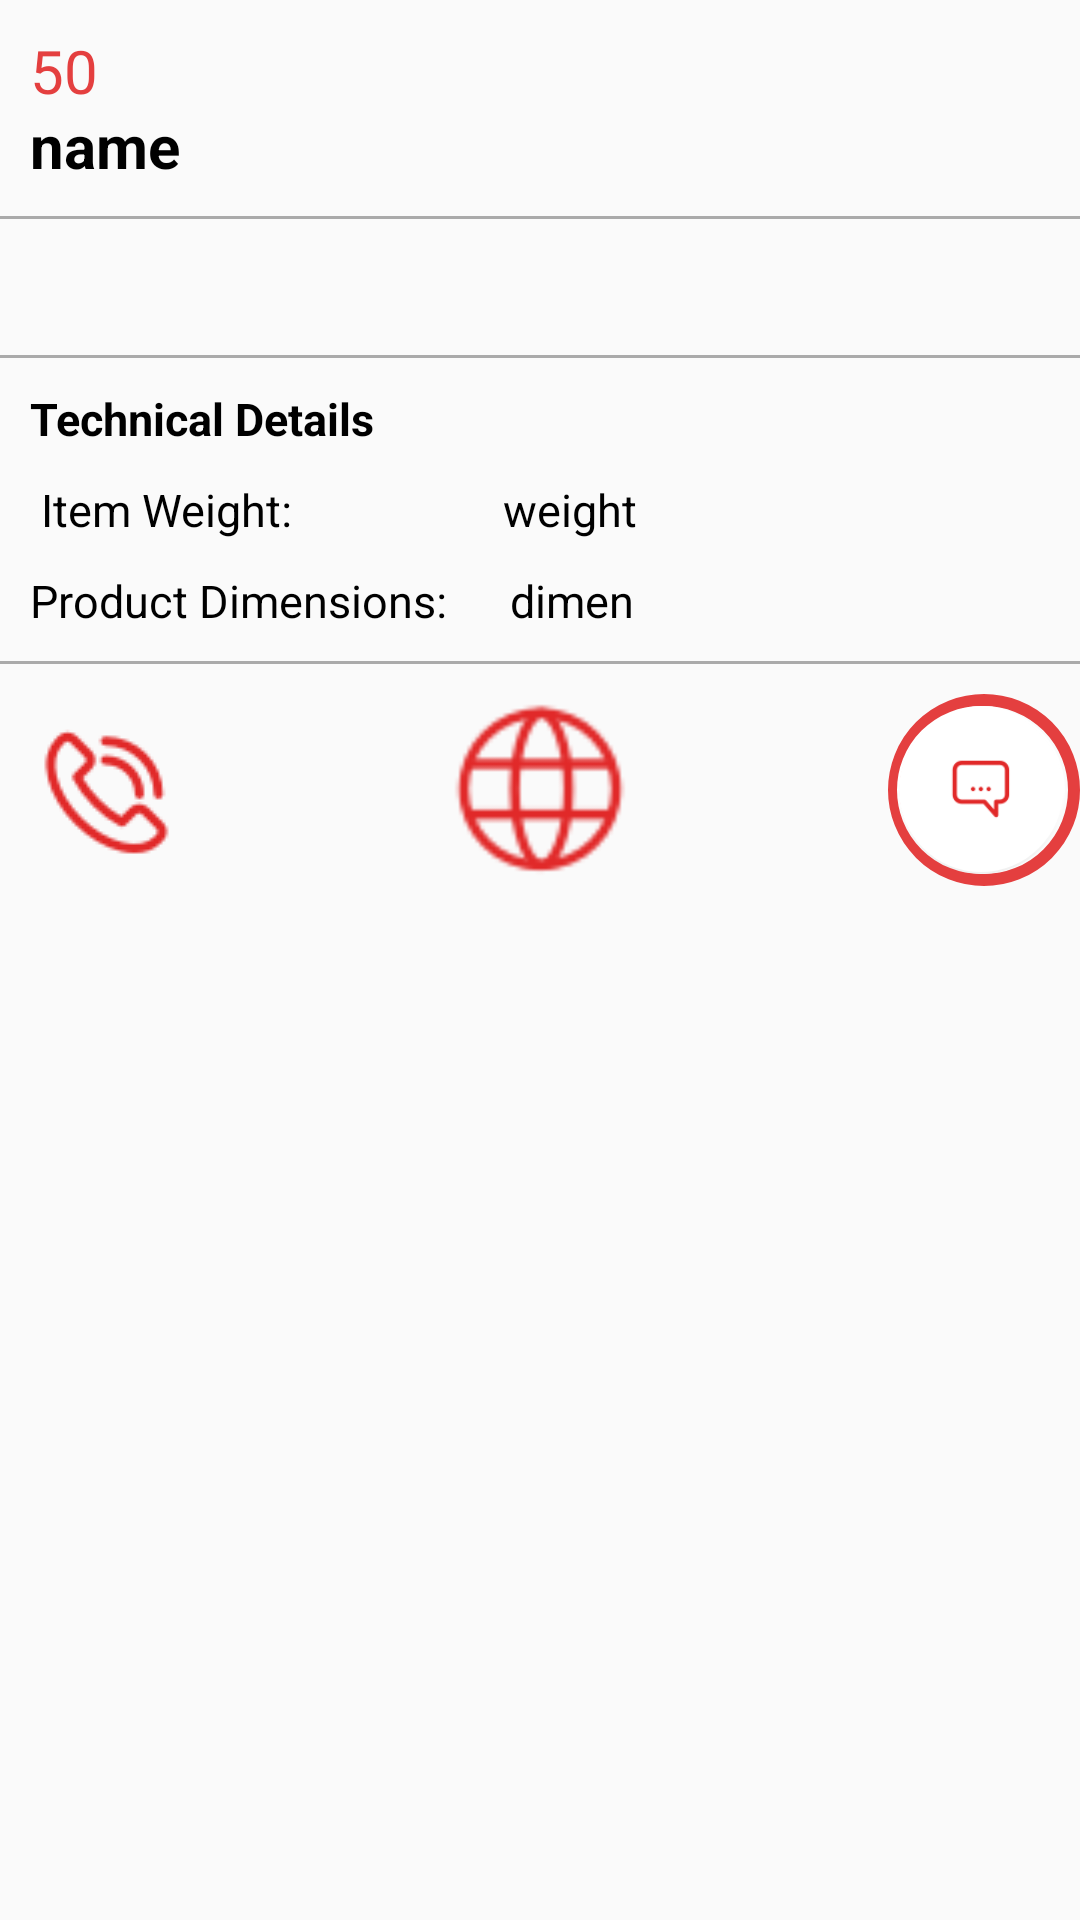

Icons on this 1080px x 1920px Android screen, each with the point to tap as (x=x, y=y):
phone: (x=106, y=792)
web: (x=540, y=788)
